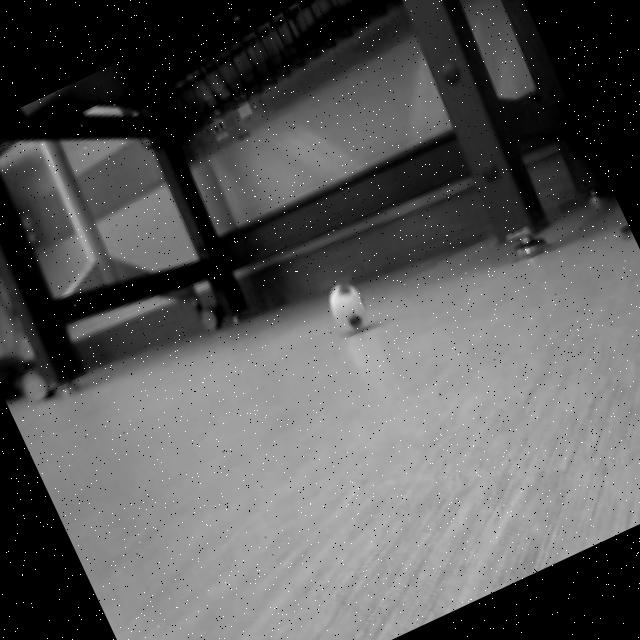ping-pong-ball: (314, 270, 376, 338)
